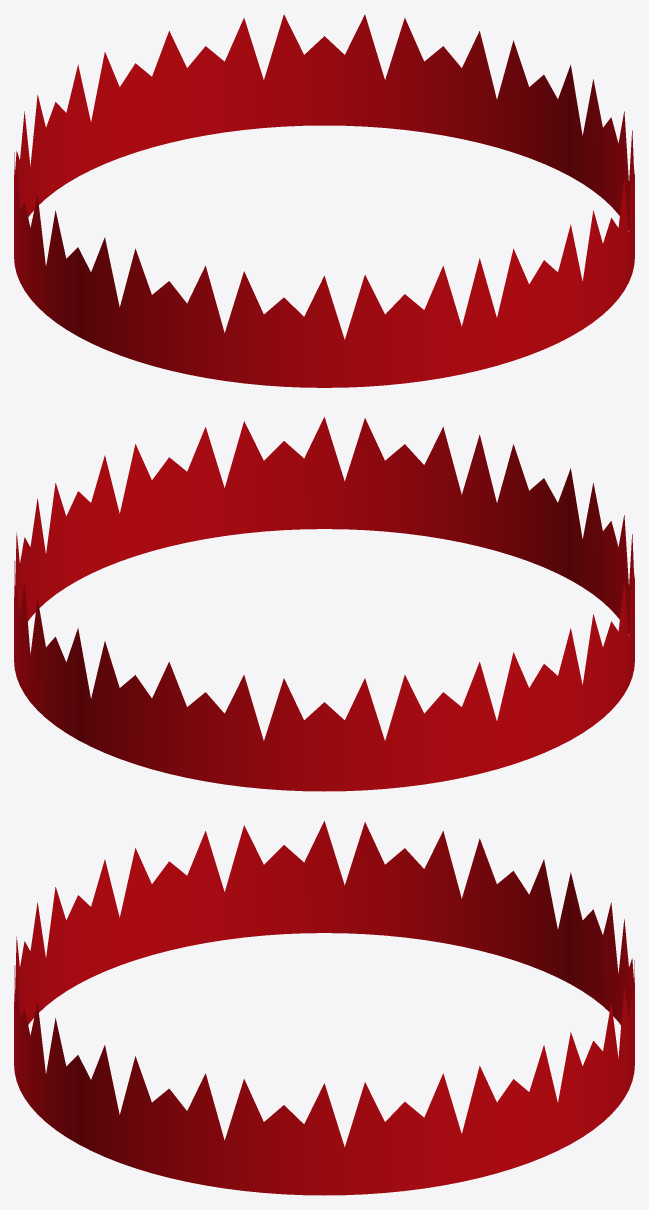
Rendered from ShockWave_Ver2.1.fbx.
3 views of the same model, one above another, from view 1: azimuth 30°, elevation 25°; view 2: azimuth 150°, elevation 25°; view 3: azimuth 270°, elevation 25° (orthographic).
Visible parts, largest first — view 1: 円柱; view 2: 円柱; view 3: 円柱.
Boxes of the visible parts, bbox=[...] form: 円柱: bbox=[14, 14, 634, 387]; 円柱: bbox=[14, 416, 634, 791]; 円柱: bbox=[14, 820, 634, 1195].
Bounding box in the file's own units: 1000 × 200 × 1000.
